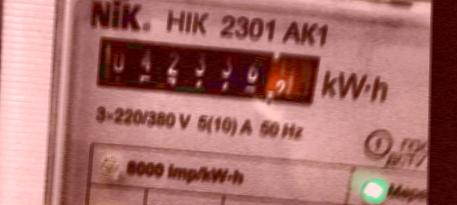0: (111, 42, 125, 71)
2: (163, 45, 182, 73)
3: (190, 46, 207, 75), (219, 47, 234, 76)
4: (137, 44, 154, 71)
6: (244, 54, 259, 81)
screen: (85, 25, 327, 111)
